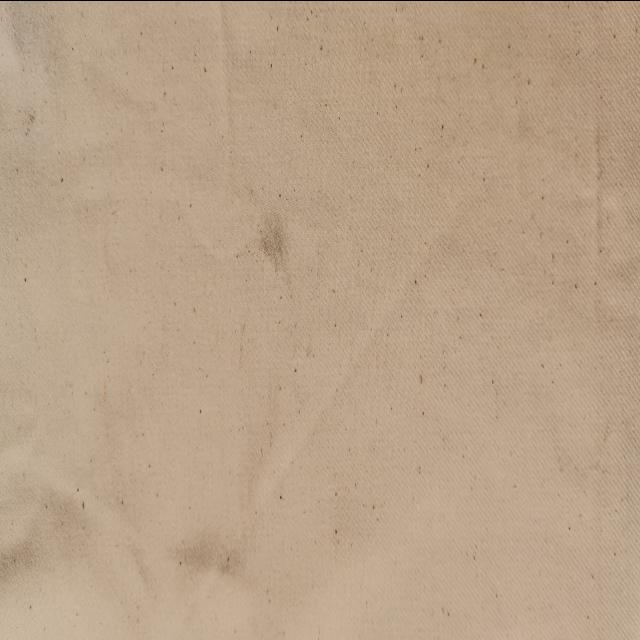taaaches: (172, 521, 258, 597), (256, 190, 298, 276)
